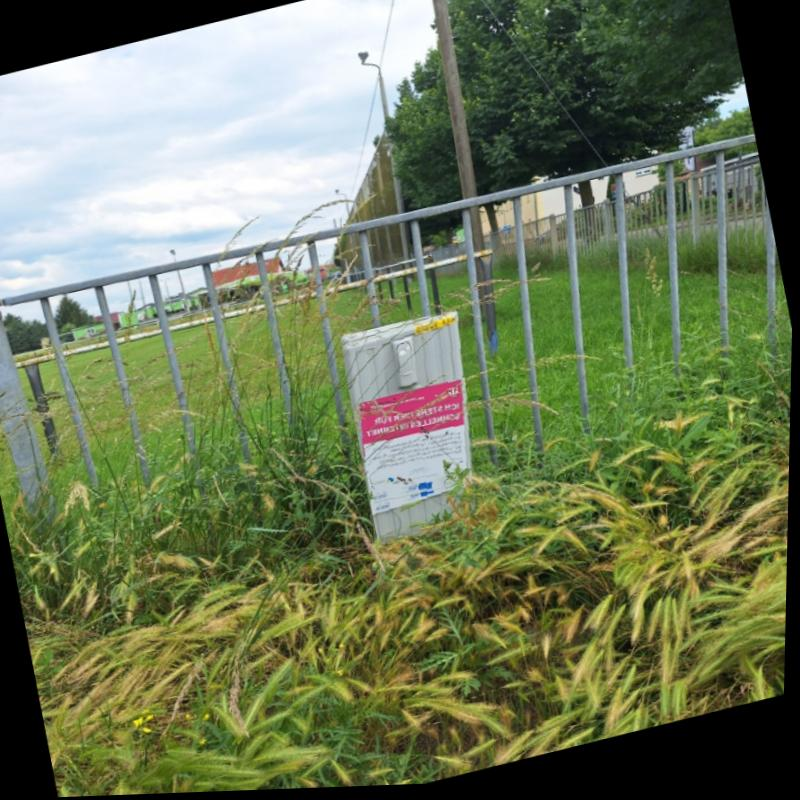NT-Gehause: (336, 309, 506, 543)
Steaker: (361, 381, 470, 507)
